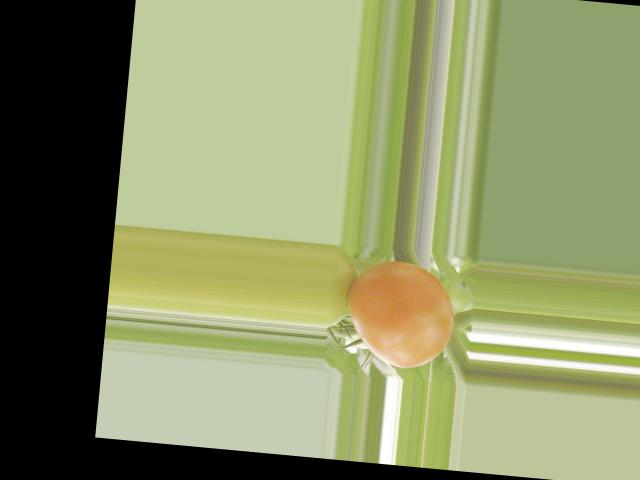tomato: (342, 256, 458, 372)
